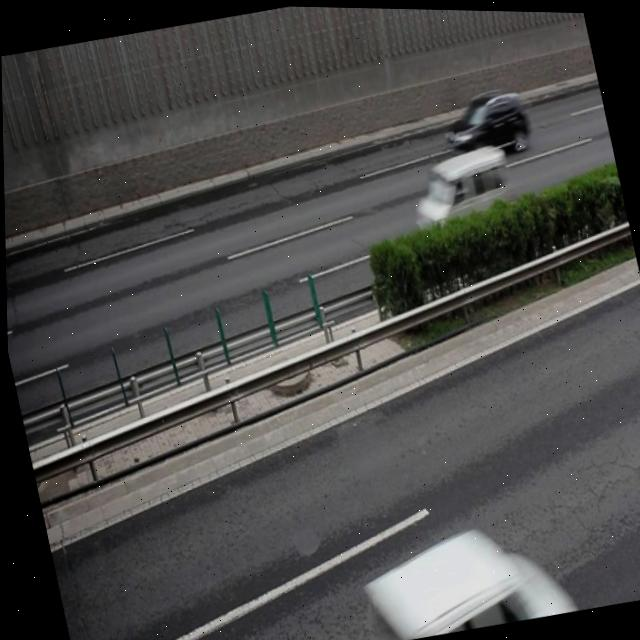car: (347, 507, 576, 640), (436, 80, 533, 164)
truck: (404, 139, 521, 246)
